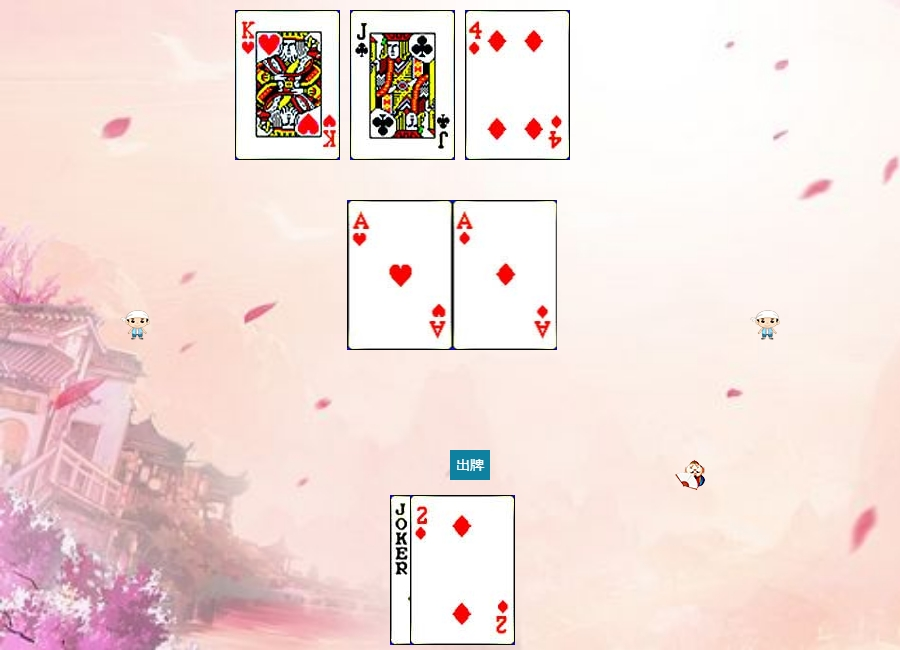11~2: (350, 10, 455, 160)
13~3: (235, 10, 340, 160)
14~1: (453, 200, 558, 350)
14~3: (348, 200, 453, 350)
15~1: (410, 495, 515, 645)
17~3: (390, 495, 495, 645)
4~1: (465, 10, 570, 160)
